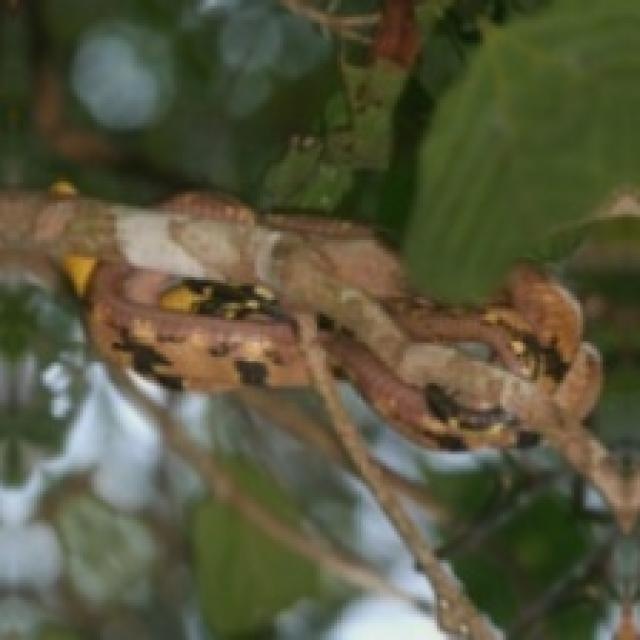dog-toothed cat snake: (0, 189, 600, 446)
